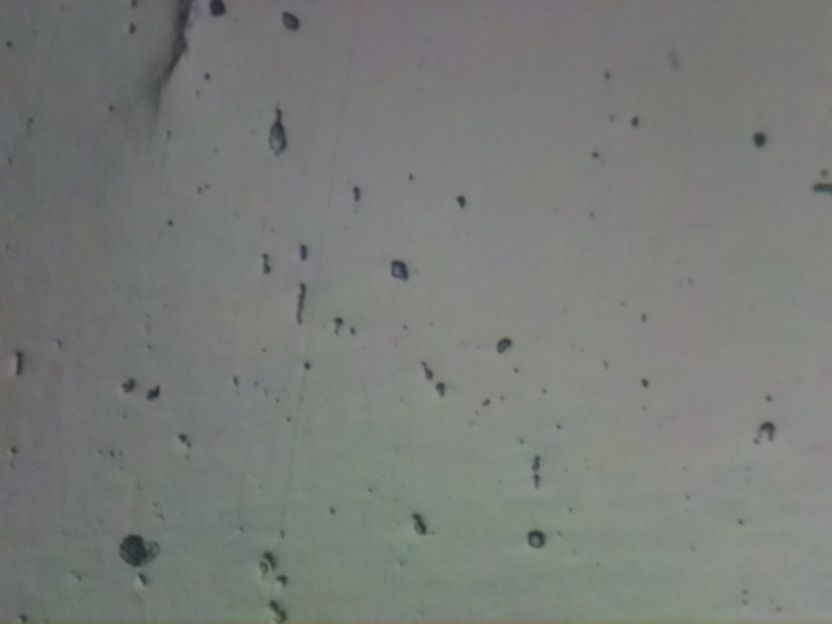crack: (147, 0, 193, 117)
